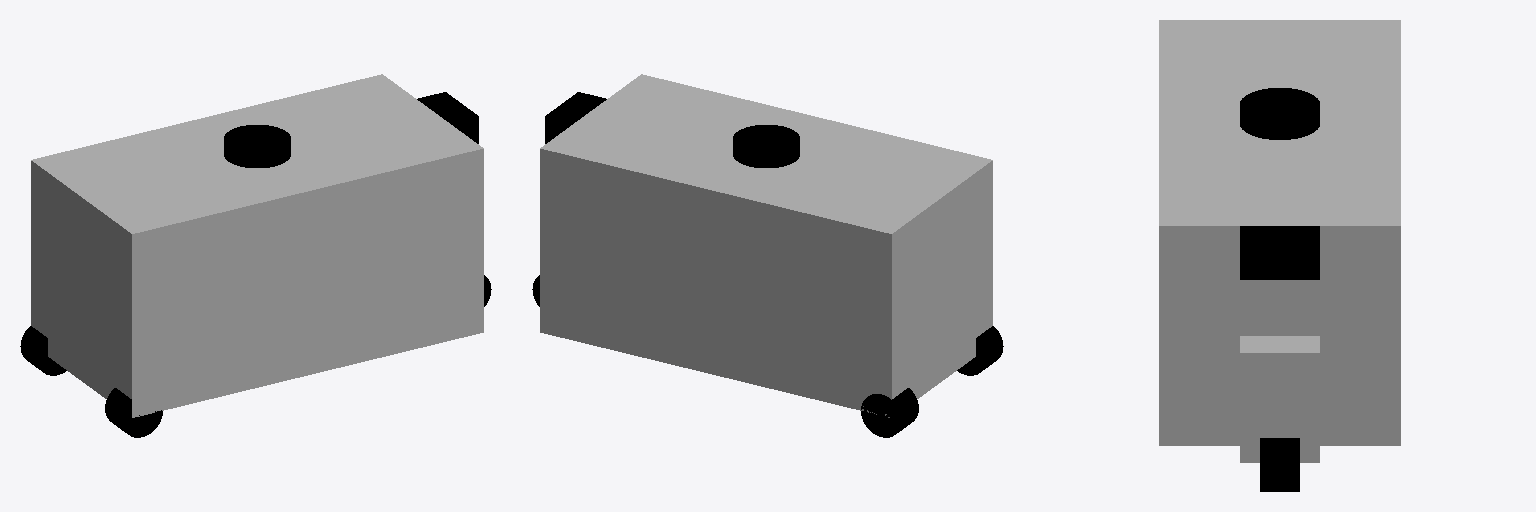
The robot description file, URDF, robot "tortoisebot":
<?xml version="1.0"?>
<robot name="tortoisebot">

  <link name="base_link">
    <visual>
      <geometry>
        <box size="0.6 0.3 0.3"/>
      </geometry>
      <material name="silver">
        <color rgba="0.75 0.75 0.75 1"/>
      </material>
    </visual>
    <collision>
      <geometry>
        <box size="0.6 0.3 0.3"/>
      </geometry>
    </collision>
    <inertial>
      <mass value="1.0"/>
      <inertia ixx="0.015" iyy="0.0375" izz="0.0375" ixy="0" ixz="0" iyz="0"/>
    </inertial>
  </link>

  

  <link name="front_caster">
    <visual>
      <geometry>
        <box size="0.1 0.1 0.15"/>
      </geometry>
      <material name="silver"/>
    </visual>
    <collision>
      <geometry>
        <box size="0.1 0.1 0.15"/>
      </geometry>
    </collision>
    <inertial>
      <mass value="0.1"/>
      <inertia ixx="0.00083" iyy="0.00083" izz="0.000167" ixy="0" ixz="0" iyz="0"/>
    </inertial>
  </link>

  <joint name="front_caster_joint" type="continuous">
    <axis xyz="0 0 1"/>
    <parent link="base_link"/>
    <child link="front_caster"/>
    <origin rpy="0 0 0" xyz="0.3 0 -0.075"/>
  </joint>

  <link name="front_wheel">
    <visual>
      <geometry>
        <cylinder length="0.05" radius="0.035"/>
      </geometry>
      <material name="black">
        <color rgba="0 0 0 1"/>
      </material>
    </visual>
    <collision>
      <geometry>
        <cylinder length="0.05" radius="0.035"/>
      </geometry>
    </collision>
    <inertial>
      <mass value="0.1"/>
      <inertia ixx="5.1458e-5" iyy="5.1458e-5" izz="6.125e-5" ixy="0" ixz="0" iyz="0"/>
    </inertial>
  </link>

  <joint name="front_wheel_joint" type="continuous">
    <axis xyz="0 0 1"/>
    <parent link="front_caster"/>
    <child link="front_wheel"/>
    <origin rpy="-1.5708 0 0" xyz="0.05 0 -.075"/>
  </joint>

  <link name="right_wheel">
    <visual>
      <geometry>
        <cylinder length="0.05" radius="0.035"/>
      </geometry>
      <material name="black">
        <color rgba="0 0 0 1"/>
      </material>
    </visual>
    <collision>
      <geometry>
        <cylinder length="0.05" radius="0.035"/>
      </geometry>
    </collision>
    <inertial>
      <mass value="0.1"/>
      <inertia ixx="5.1458e-5" iyy="5.1458e-5" izz="6.125e-5" ixy="0" ixz="0" iyz="0"/>
    </inertial>
  </link>

  <joint name="right_wheel_joint" type="continuous">
    <axis xyz="0 0 1"/>
    <parent link="base_link"/>
    <child link="right_wheel"/>
    <origin rpy="-1.5708 0 0" xyz="-0.2825 -0.125 -.15"/>
  </joint>

  <link name="left_wheel">
    <visual>
      <geometry>
        <cylinder length="0.05" radius="0.035"/>
      </geometry>
      <material name="black">
        <color rgba="0 0 0 1"/>
      </material>
    </visual>
    <collision>
      <geometry>
        <cylinder length="0.05" radius="0.035"/>
      </geometry>
    </collision>
    <inertial>
      <mass value="0.1"/>
      <inertia ixx="5.1458e-5" iyy="5.1458e-5" izz="6.125e-5" ixy="0" ixz="0" iyz="0"/>
    </inertial>
  </link>

  <joint name="left_wheel_joint" type="continuous">
    <axis xyz="0 0 1"/>
    <parent link="base_link"/>
    <child link="left_wheel"/>
    <origin rpy="-1.5708 0 0" xyz="-0.2825 0.125 -.15"/>
  </joint>
  <gazebo>
    <plugin name="gazebo_ros_joint_state_publisher"
        filename="libgazebo_ros_joint_state_publisher.so">


      <!-- Update rate in Hertz -->
      <update_rate>50</update_rate>

      <!-- Name of joints in the model whose states will be published. -->
      <joint_name>front_caster_joint</joint_name>
      <joint_name>front_wheel_joint</joint_name>

    </plugin>
    </gazebo>

    <gazebo>

    <plugin name="gazebo_ros_diff_drive" filename="libgazebo_ros_diff_drive.so">

        <ros>

        <!-- Add a namespace -->
        <!-- <namespace>/test</namespace> -->

        </ros>

        <!-- Update rate in Hz "50" times per second-->
        <update_rate>50</update_rate>

        <!-- wheels -->
        <left_joint>left_wheel_joint</left_joint>
        <right_joint>right_wheel_joint</right_joint>

        <!-- kinematics -->
        <!--wheel seperation = base_width + 1/2 length of w1 + 1/2 of length of wheel2-->
        <wheel_separation>0.35</wheel_separation>
        <!--wheel diameter 2*wheel radius   -->
        <wheel_diameter>0.07</wheel_diameter>

        <!-- limits -->
        <!--<max_wheel_torque>20</max_wheel_torque>
        <max_wheel_acceleration>1.0</max_wheel_acceleration>
        -->
        <!-- input -->
        <!--by default for differential drive it is cmd_vel topic so this can be romoved-->
        <!--<command_topic>cmd_vel</command_topic> -->

        <!-- output -->
        <publish_odom>true</publish_odom> <!--  keeps track of where the robot from the start point ie.. distance traversed by the robot since the start point-->
        <publish_odom_tf>true</publish_odom_tf> <!--keeps robot position data from the starting point-->
        <publish_wheel_tf>true</publish_wheel_tf>

        <odometry_topic>odom</odometry_topic>
        <odometry_frame>odom</odometry_frame>
        <!--chassis frame must be base_footprint frame because that it what holds up the entire robot up from ground-->
        <robot_base_frame>base_link</robot_base_frame>

    </plugin>
    </gazebo>


  <link name="lidar_link">
    <inertial>
        <origin xyz="0.0 0.0 0.0" rpy="0.0 0.0 0.0"/>
        <mass value="0.1"/>
        <inertia 
    ixx="0.0000925"
    ixy="0.0"
    ixz="0.0"
    iyy="0.0000925"
    iyz="0.0"
    izz="0.000125"/>
    </inertial>
    <visual>
        <origin xyz="0.0 0.0 -0.03" rpy="0.0 0.0 0.0"/>
        <geometry>
            <cylinder radius="0.05" length="0.05"/>
        </geometry>
        <material name="">
            <color rgba="0.0 0.0 0.0 1.0"/>
        </material>
    </visual>
    <collision>
        <origin xyz="0.0 0.0 -0.03" rpy="0.0 0.0 0.0"/>
        <geometry>
            <cylinder radius="0.05" length="0.06"/>
        </geometry>
    </collision>
  </link>

  <joint name="lidar_base_joint" type="fixed">
    <origin xyz="0.0 0.0 0.18" rpy="0.0 0.0 0.0"/>
    <parent link="base_link"/>
    <child link="lidar_link"/>
    <axis xyz="0.0 0.0 1.0"/>

  </joint>


    <gazebo reference="lidar_link">
        <material>Gazebo/Red</material>

        <sensor name="laser" type="ray">
            <pose> 0 0 0 0 0 0 </pose>
            <visualize>true</visualize>
            <update_rate>10</update_rate>
            <ray>
                <scan>
                    <horizontal>
                        <samples>360</samples>
                        <min_angle>-3.14</min_angle>
                        <max_angle>3.14</max_angle>
                    </horizontal>
                </scan>
                <range>
                    <min>0.3</min>
                    <max>12</max>
                </range>
            </ray>
            <plugin name="laser_controller" filename="libgazebo_ros_ray_sensor.so">
                <ros>
                    <argument>~/out:=scan</argument>
                </ros>
                <output_type>sensor_msgs/LaserScan</output_type>
                <frame_name>lidar_link</frame_name>
            </plugin>
        </sensor>
    </gazebo>  
<!-- ================= CAMERA LINK ================= -->

<link name="camera_link">
  <inertial>
    <origin xyz="0 0 0" rpy="0 0 0"/>
    <mass value="0.1"/>
    <inertia 
      ixx="0.00010417"
      ixy="0.0"
      ixz="0.0"
      iyy="0.00004167"
      iyz="0.0"
      izz="0.00010417"/>
  </inertial>

  <visual>
    <origin xyz="0.0 0 0.0" rpy="0 0 0"/>
    <geometry>
      <box size="0.05 0.1 0.05"/>
    </geometry>
    <material name="black">
      <color rgba="0 0 0 1"/>
    </material>
  </visual>

  <collision>
    <origin xyz="0.0 0 0.025" rpy="0 0 0"/>
    <geometry>
      <box size="0.05 0.1 0.05"/>
    </geometry>
  </collision>
</link>



<joint name="camera_base_joint" type="fixed">
  <origin xyz="0.325 0 0.125" rpy="0 0 0"/>
  <parent link="base_link"/>
  <child link="camera_link"/>
</joint>

<!-- camera coordinate system transform for vision-->

<link name="camera_optical_link"/>

<joint name="camera_optical_joint" type="fixed">
  <origin xyz="0 0 0" rpy="-1.57 0 -1.57"/>
  <parent link="camera_link"/>
  <child link="camera_optical_link"/>
</joint>



<!-- depth camera gazebo plugin-->
    <gazebo reference="camera_link">
        <material>Gazebo/Red</material>

        <sensor name="camera" type="depth">
            <pose> 0 0 0 0 0 0 </pose>
            <visualize>true</visualize>
            <update_rate>10</update_rate>
            <camera>
            <!--fov in radians(refer with actual camera)-->
                <horizontal_fov>1.089</horizontal_fov>
                <image>
                    <width>640</width>
                    <height>480</height>
                    <!--depth cam in bgr format-->
                    <format>B8G8R8</format>
                </image>
                <clip>
                    <near>0.02</near>
                    <!--8.0 metres far-->
                    <far>8.0</far>
                </clip>
            </camera>
            <plugin name="camera_controller" filename="libgazebo_ros_camera.so">

                <frame_name>camera_optical_link</frame_name>
                <!--two extra params in the plugin-->
                <min_depth>0.1</min_depth>
                <max_depth>100.0</max_depth>
            </plugin>
        </sensor>
    </gazebo>  


</robot>

--- Facts derived from the render (not from the file) ---
Views: 3 orthographic renders of the robot side by side, from view 1: azimuth 30°, elevation 25°; view 2: azimuth 150°, elevation 25°; view 3: azimuth 270°, elevation 25°.
Robot: tortoisebot — 8 links, 7 joints (4 continuous, 3 fixed); root link base_link; default pose: all joints at 0.
Links seen in each view (by area): view 1: base_link, lidar_link, right_wheel, camera_link, left_wheel; view 2: base_link, lidar_link, left_wheel, camera_link, right_wheel; view 3: base_link, front_caster, camera_link, lidar_link, front_wheel.
Link boxes in pixels (box(x1,y1,x2,y2)): base_link: box(31, 74, 483, 417); lidar_link: box(224, 125, 290, 167); right_wheel: box(105, 388, 162, 437); camera_link: box(417, 92, 478, 143); left_wheel: box(20, 326, 66, 375); base_link: box(540, 74, 992, 417); lidar_link: box(733, 125, 799, 167); left_wheel: box(861, 388, 918, 437); camera_link: box(545, 92, 606, 143); right_wheel: box(957, 326, 1003, 375); base_link: box(1159, 20, 1400, 445); front_caster: box(1240, 336, 1319, 462); camera_link: box(1240, 226, 1319, 279); lidar_link: box(1240, 88, 1319, 139); front_wheel: box(1260, 438, 1299, 491).
Bounding box of the posed robot: 0.7025 × 0.3 × 0.36 m (x, y, z).
Geometry: primitives only (box / cylinder / sphere), no mesh files.
